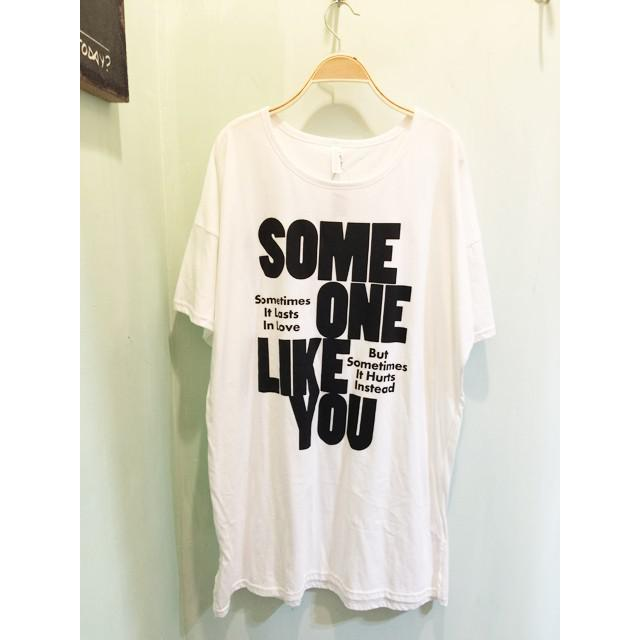Tops: (177, 97, 495, 617)
